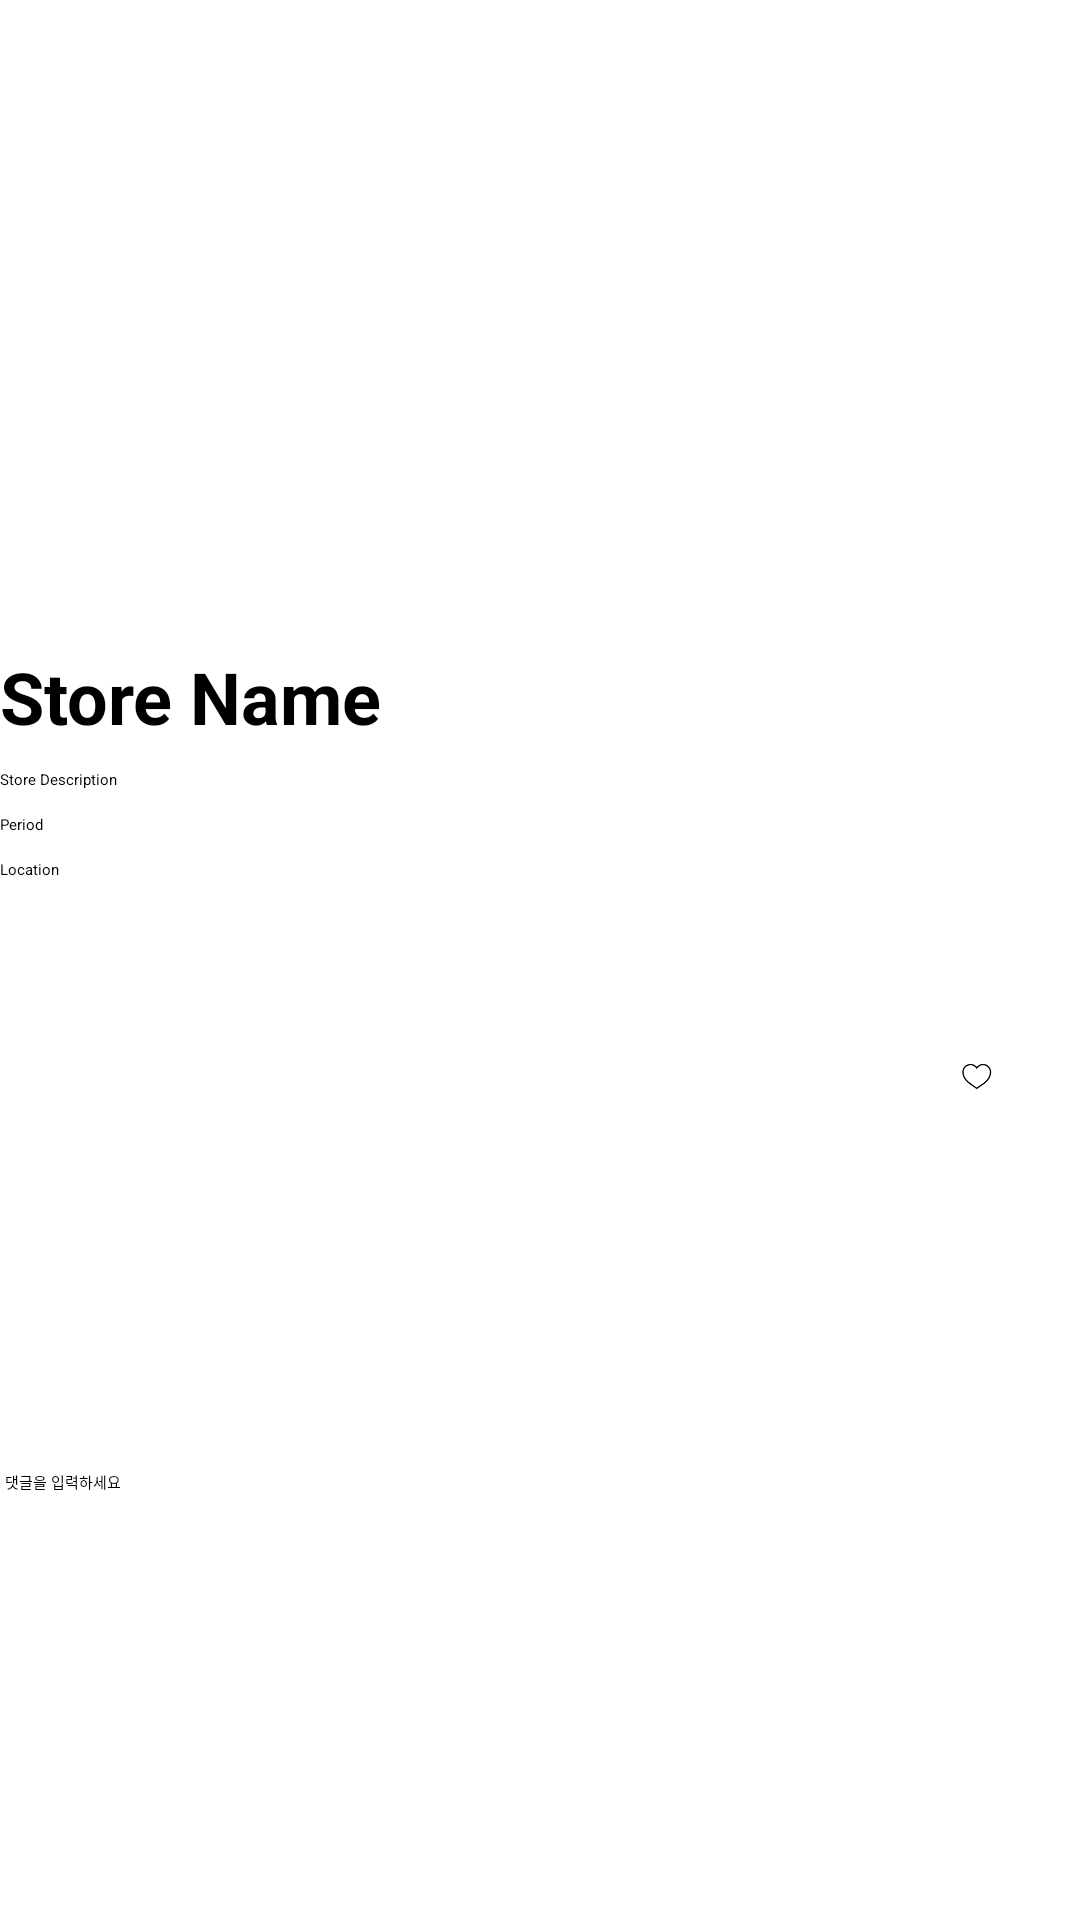

Icon click points for this 1080x1920 phone screenshot, format (x,y):
Add to wishlist: (977,1076)
